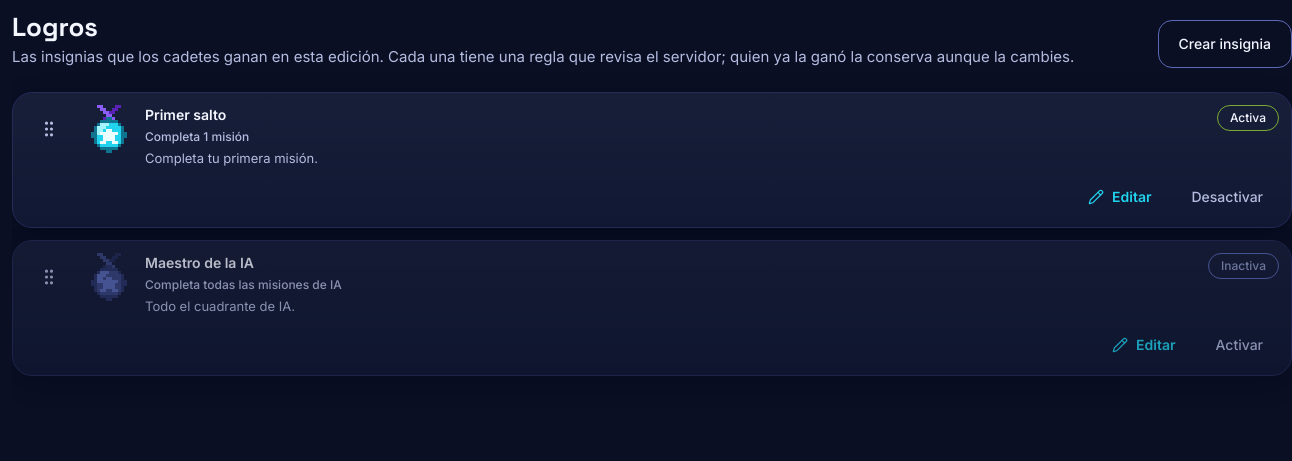
Test: BadgesAdminView › moves, deactivates and activates, refreshing the list
Press ArrowDown in the button named "Mover Primer salto", box [25,105,73,153]
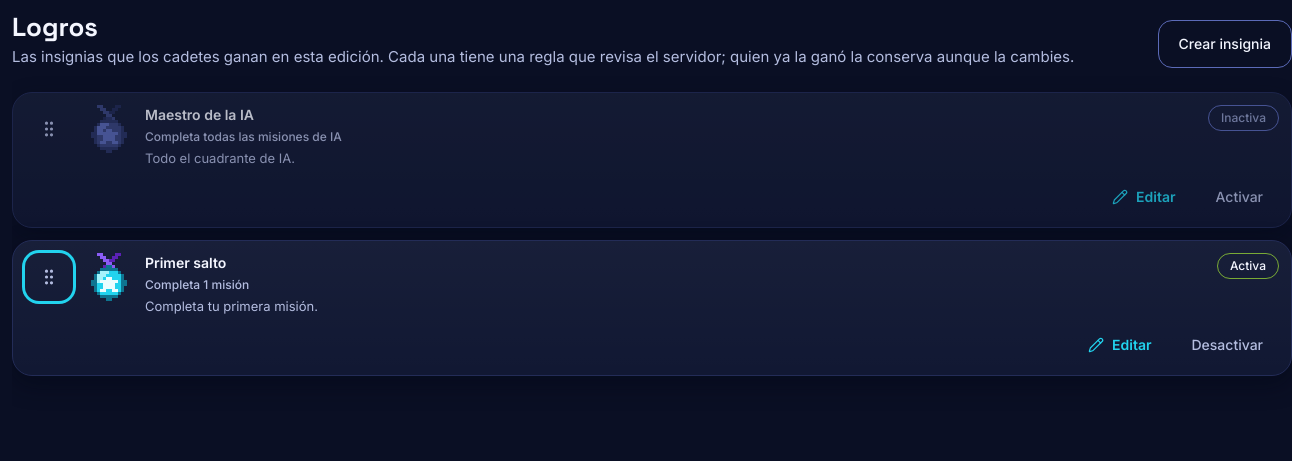
Click the button "Desactivar" at coordinates (1227, 345), box [1176,327,1279,363]
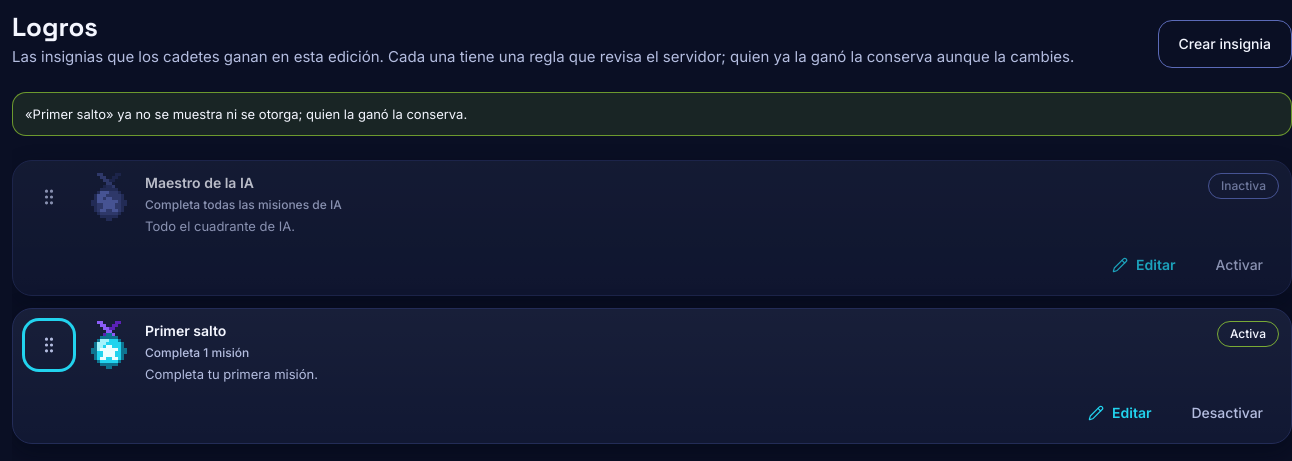
Click the button "Activar" at coordinates (1239, 265), box [1200,247,1279,283]
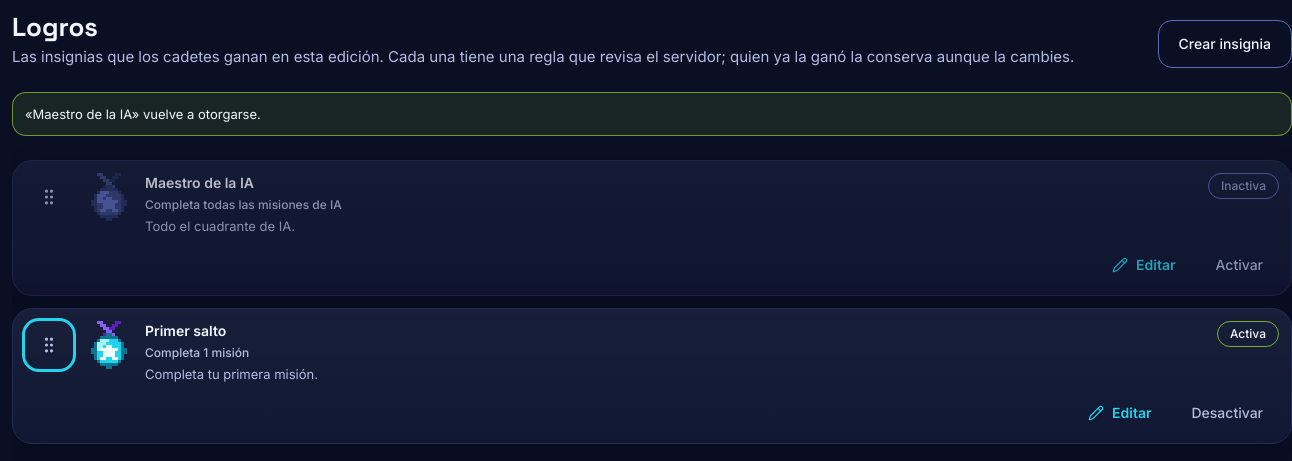
Expected: the text "«Maestro de la IA» vuelve a otorgarse." is shown, [12,92,1291,136]
